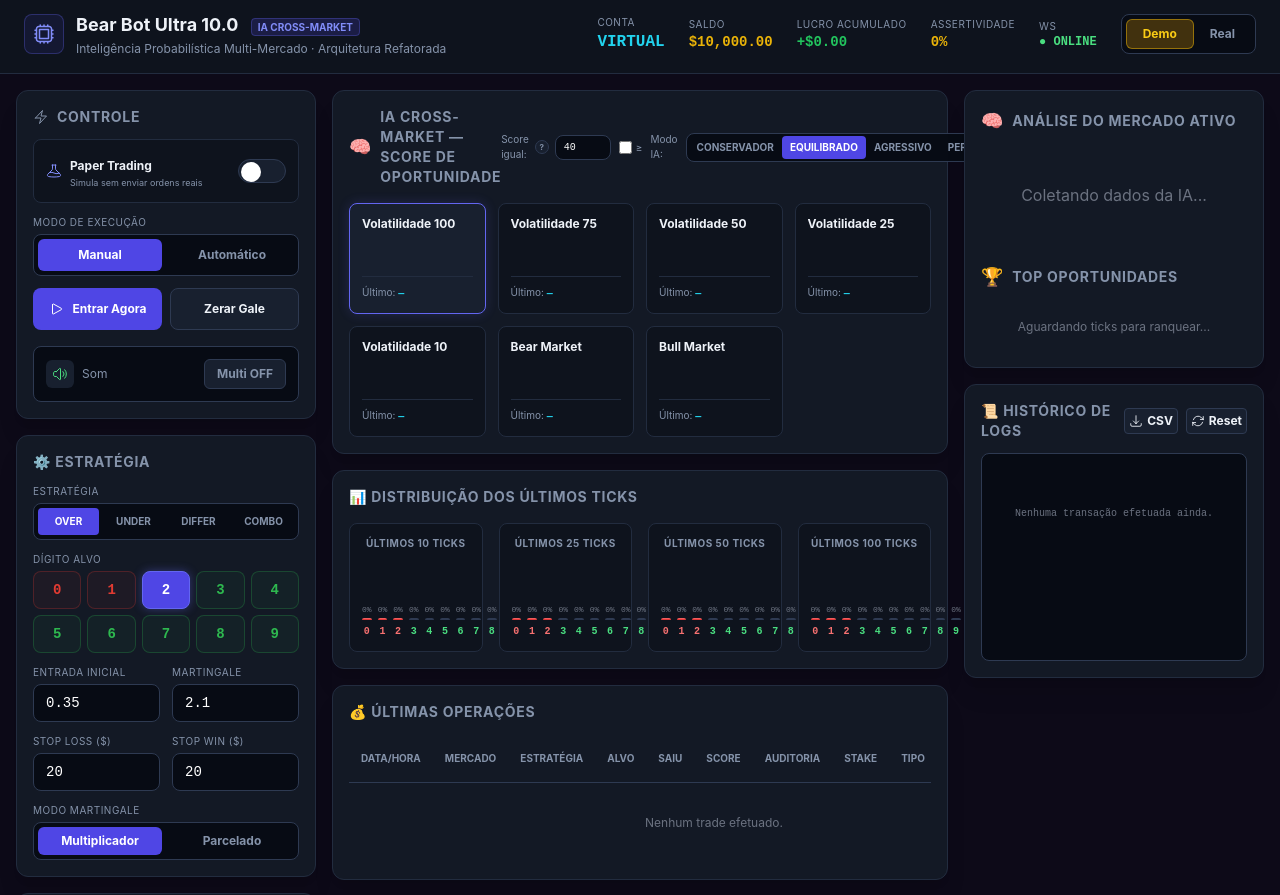
Test: BearBotUltra2 UI - Dígito Automático › bloqueia a seleção manual de dígitos e exibe badge quando Dígito Automático é ativado
# Clica em 'differ'
Click the button "differ". click: point(198, 521)
box: [168,508,229,534]
(page scrolled)
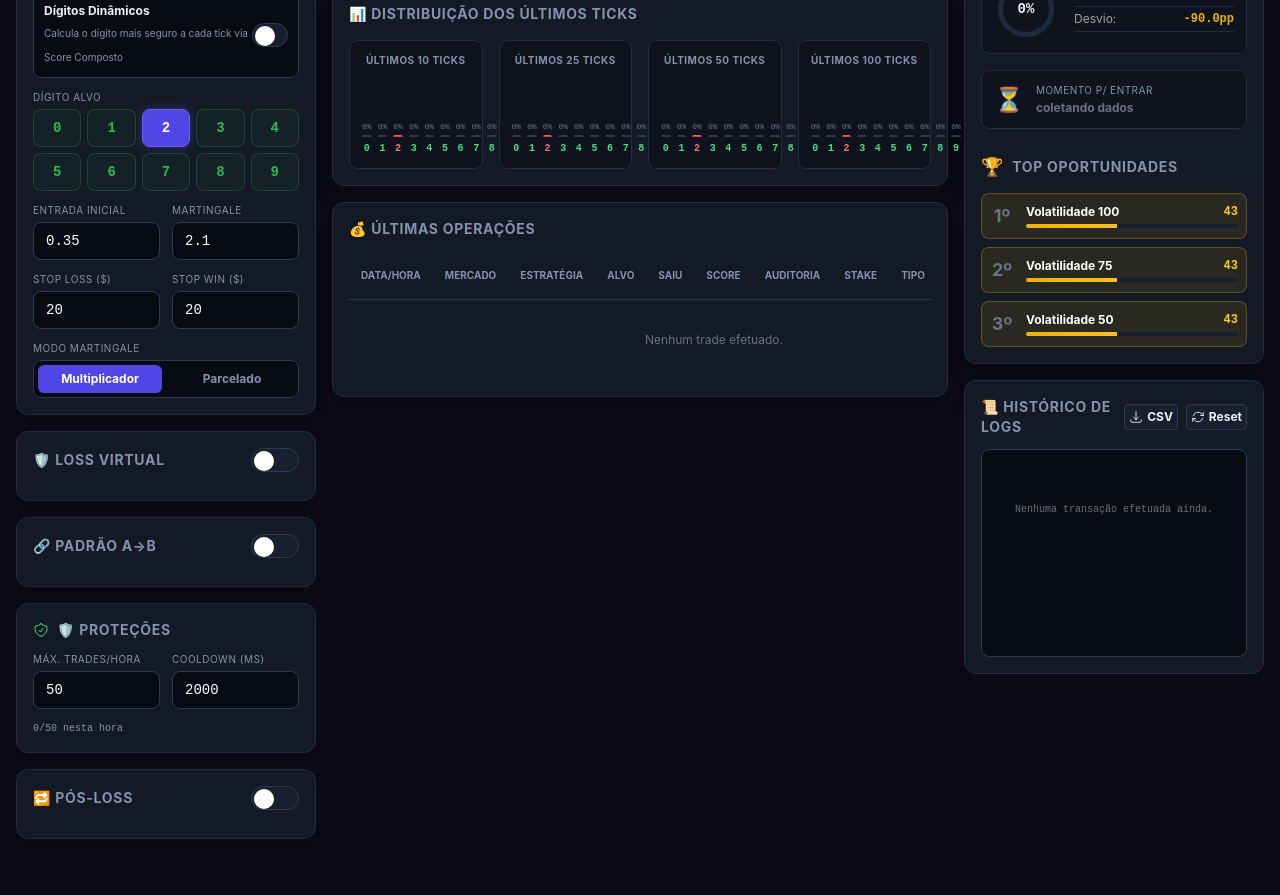
# Ativa Loss Virtual
Click the button with test id "toggle-loss-virtual". click: point(275, 460)
box: [251,448,299,472]
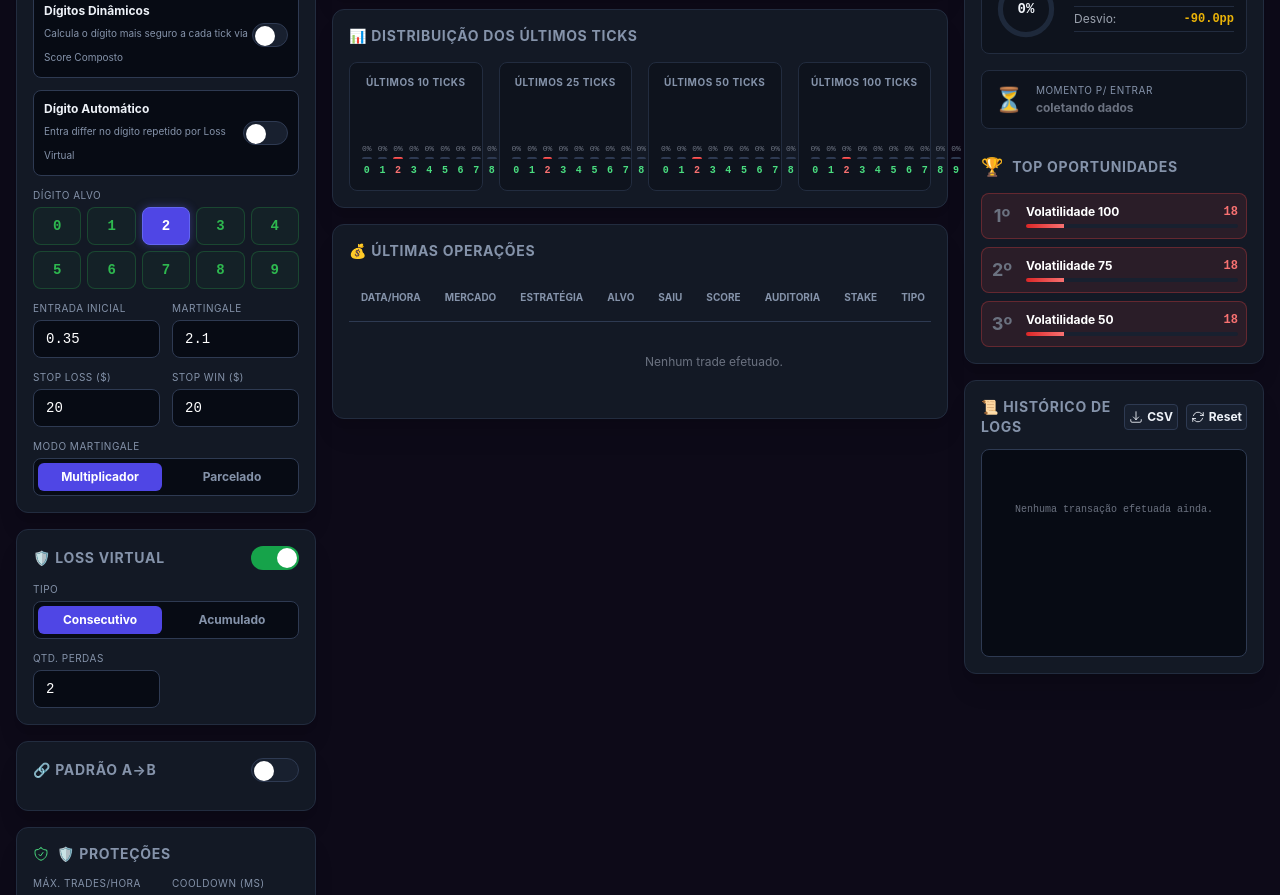
# Ativa Dígito Automático
Click the button with test id "toggle-auto-digit". click: point(266, 132)
box: [243,120,288,144]
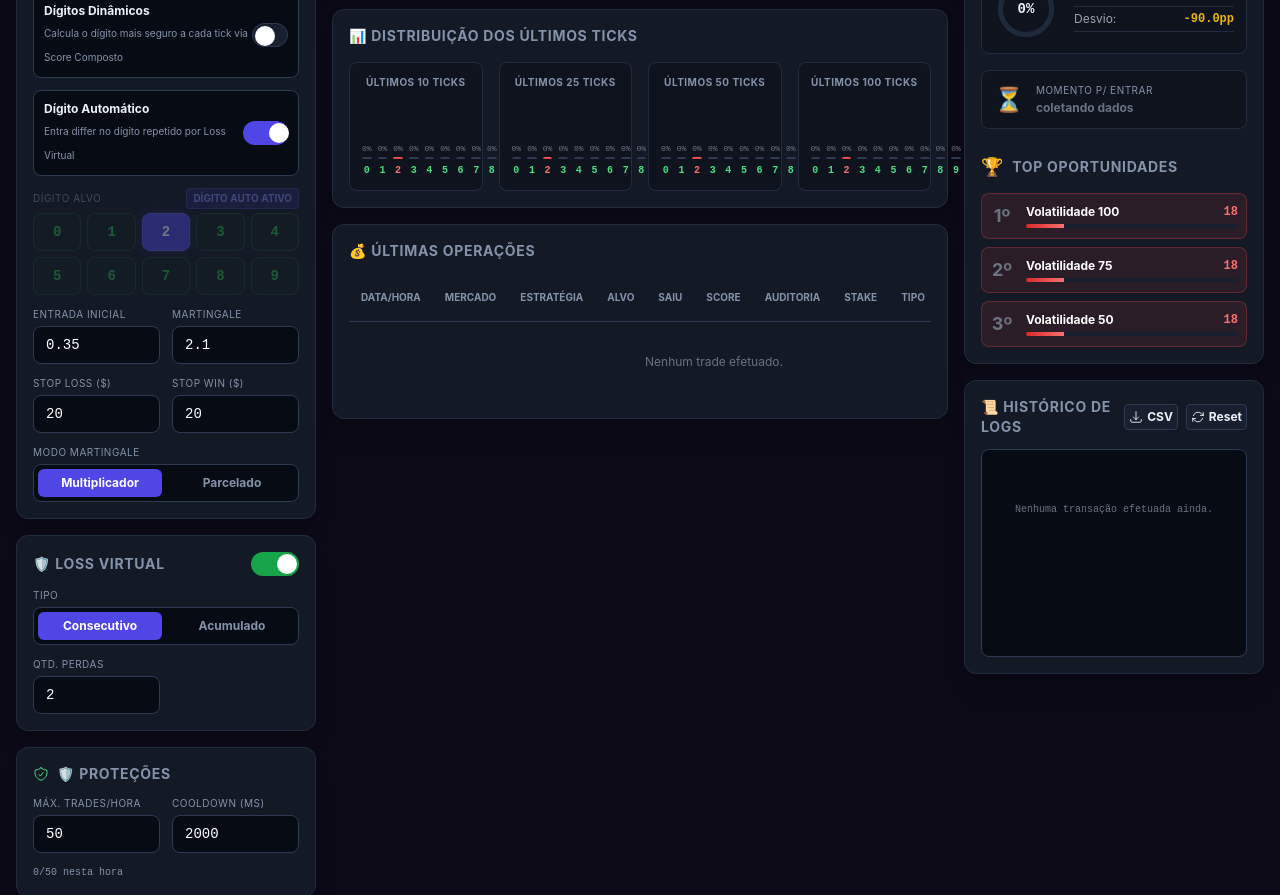
Expected: the heading "PADRÃO A→B" is not shown
Result: the text "DÍGITO AUTO ATIVO" is shown at [186,188,299,208]
